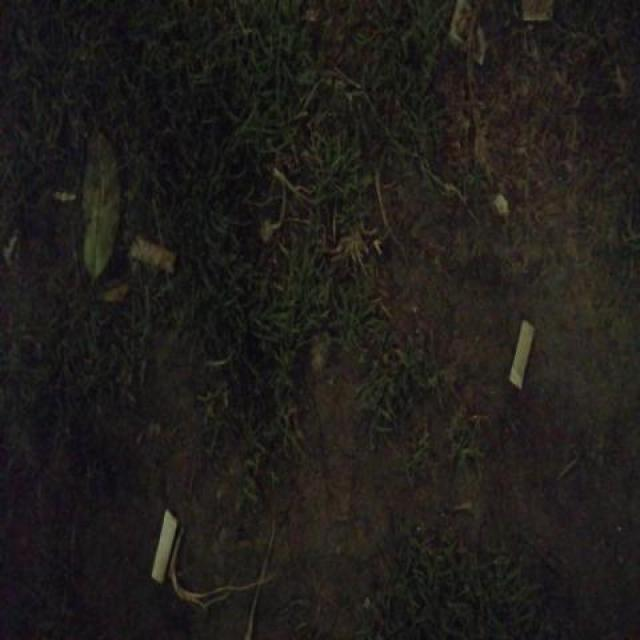non-organic waste: (147, 501, 182, 588), (127, 231, 181, 280), (508, 317, 537, 393)
